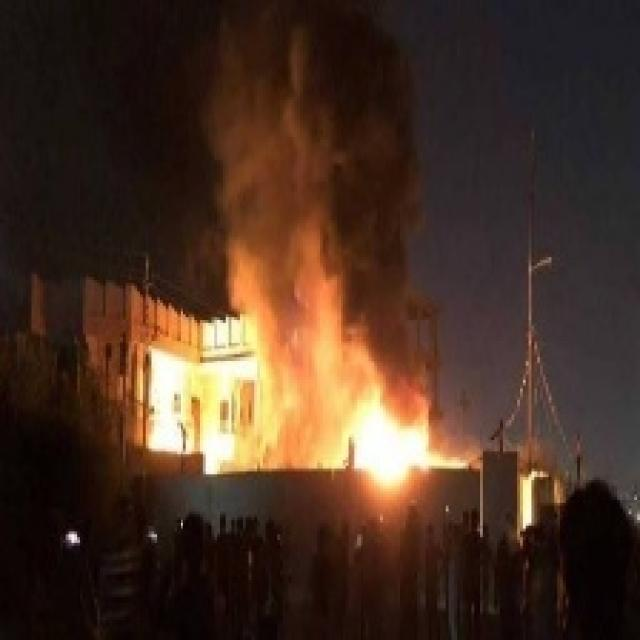Fire: (332, 387, 429, 474)
Smoke: (213, 4, 424, 382)
